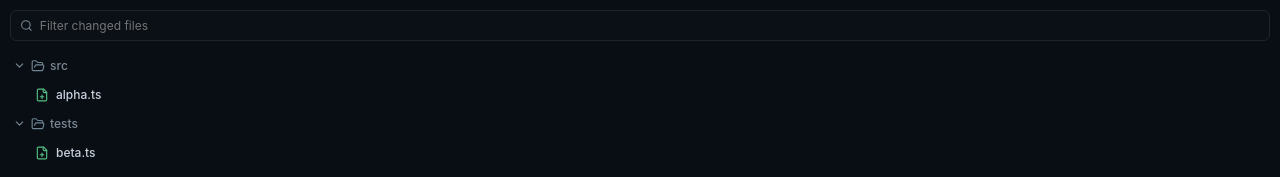
it: DiffFileList › filters by the complete repository path
This screenshot has width=1280, height=177.
In the field labelled "Filter changed files": (650, 26) [40,18,1260,33], type "tests/"
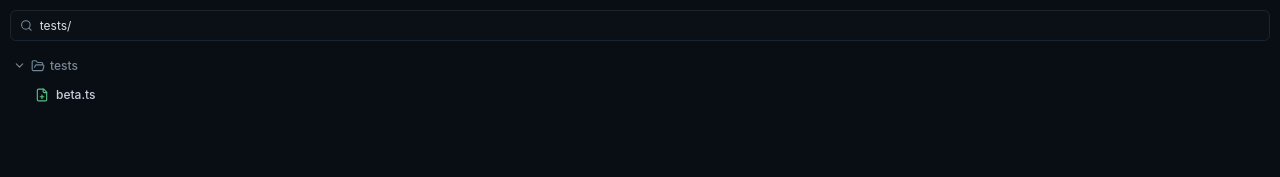
Check: the text "beta.ts" is shown, box [56,87,96,102]
Check: the button "alpha.ts" is gone
